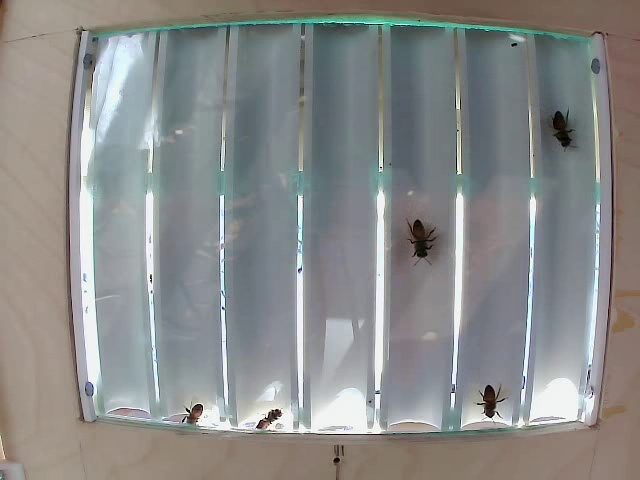bee: (407, 205, 436, 265), (538, 113, 581, 151), (474, 384, 505, 422), (265, 409, 290, 438), (191, 393, 212, 426)
